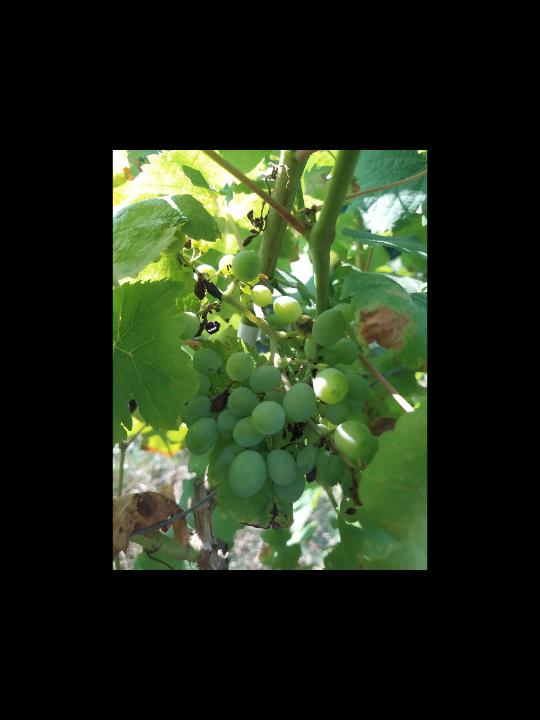grape: (177, 250, 377, 505)
